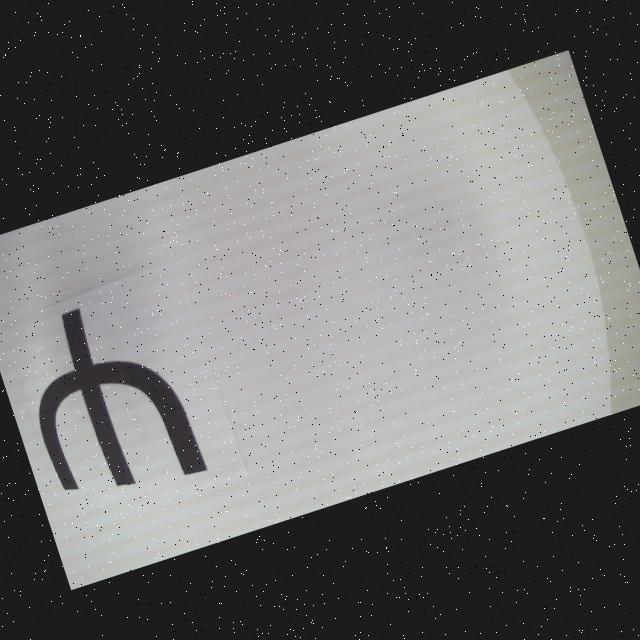PSI: (8, 285, 210, 516)
